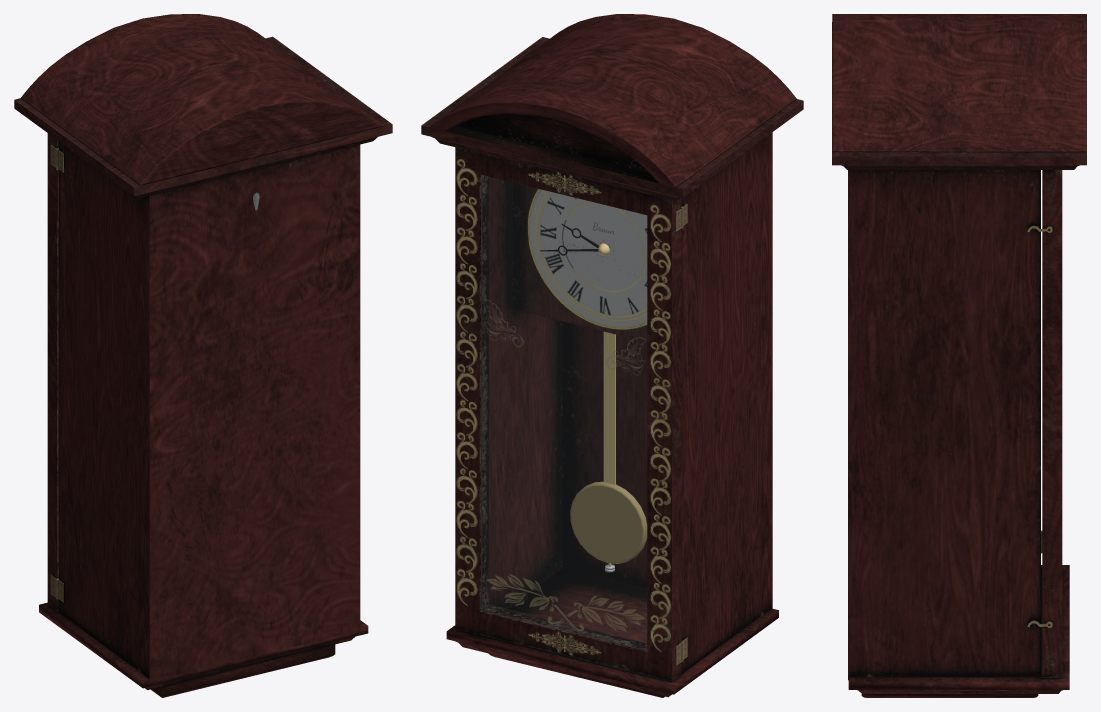
The model's file is obj_wall_clock_old_078594.glb.
3 views of the same model, side by side, from view 1: azimuth 30°, elevation 25°; view 2: azimuth 150°, elevation 25°; view 3: azimuth 270°, elevation 25° (orthographic). The views are drawn at different scales.
Parts seen in each view (by area): view 1: obj_wall_clock_old_078594; view 2: obj_wall_clock_old_078594; view 3: obj_wall_clock_old_078594.
Part boxes in pixels (x1,y1,x2,y2): obj_wall_clock_old_078594: [14, 14, 392, 697]; obj_wall_clock_old_078594: [421, 14, 803, 697]; obj_wall_clock_old_078594: [832, 14, 1086, 697].
Size of the model in its own units: 0.137 by 0.3 by 0.1101.
17 materials, 17 textured.
